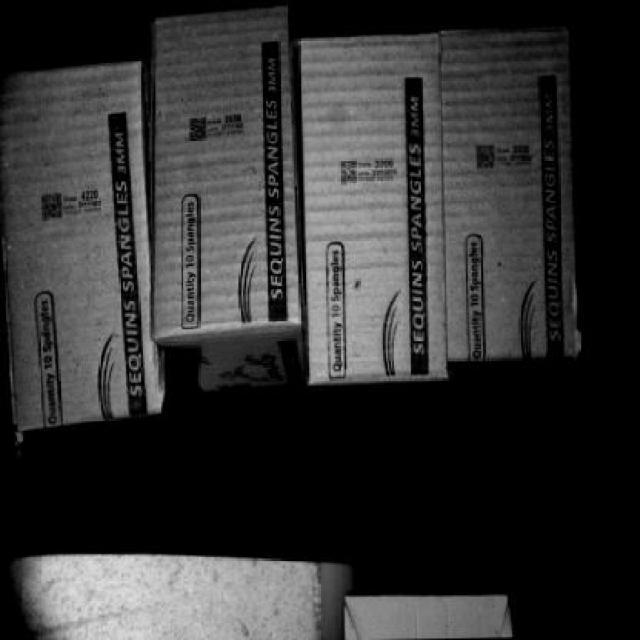box: (0, 64, 146, 430), (301, 38, 448, 376), (153, 17, 302, 328), (451, 28, 577, 360)
